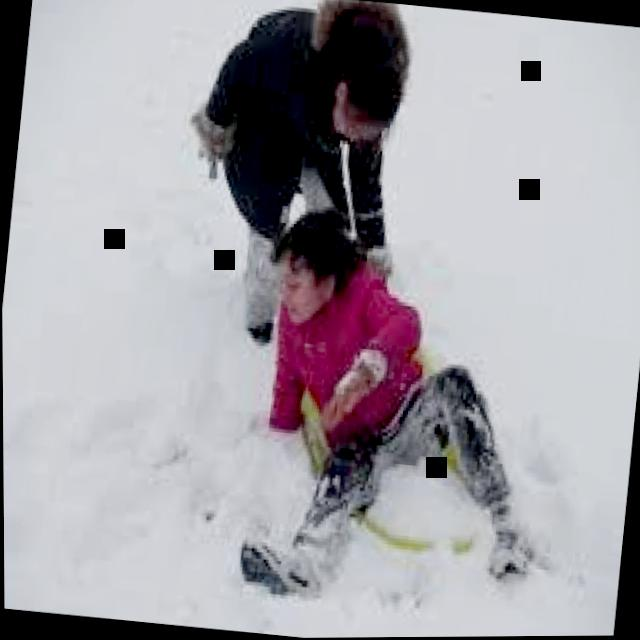Fall-Detected: (223, 165, 604, 631)
